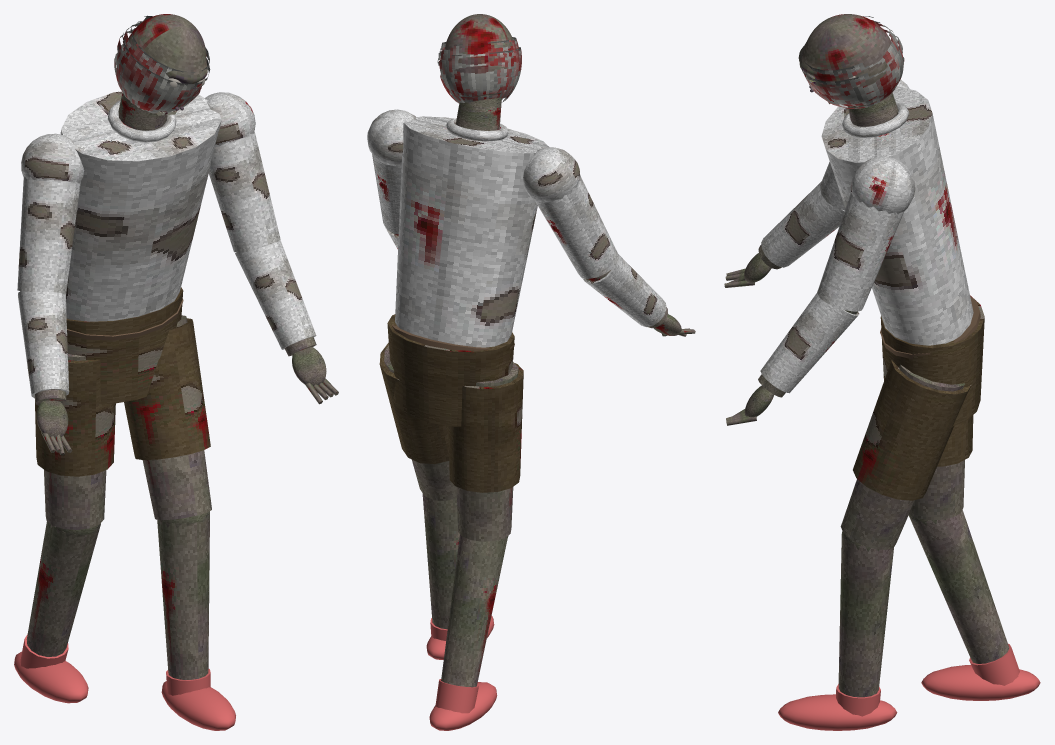
The model's file is Zombie_117.glb.
The picture shows the model from 3 angles, left to right: view 1: azimuth 30°, elevation 25°; view 2: azimuth 150°, elevation 25°; view 3: azimuth 270°, elevation 25°; orthographic projection. The views are drawn at different scales.
Visible parts, largest first — view 1: Zombie_117, object 12, object 4, object 18, object 44, object 43, object 13, object 5; view 2: Zombie_117, object 4, object 18, object 44, object 43; view 3: Zombie_117, object 18, object 12, object 4, object 44, object 43, object 13.
Part boxes in pixels (<box>): Zombie_117: <box>14,91,280,730</box>; object 12: <box>235,240,316,349</box>; object 4: <box>18,291,69,398</box>; object 18: <box>123,14,207,107</box>; object 44: <box>114,21,210,113</box>; object 43: <box>116,15,209,97</box>; object 13: <box>292,347,326,385</box>; object 5: <box>36,400,68,438</box>; Zombie_117: <box>367,95,618,730</box>; object 4: <box>582,254,666,326</box>; object 18: <box>444,14,512,96</box>; object 44: <box>437,47,521,103</box>; object 43: <box>439,37,518,100</box>; Zombie_117: <box>778,79,1040,730</box>; object 18: <box>798,14,891,102</box>; object 12: <box>760,293,859,393</box>; object 4: <box>761,181,844,267</box>; object 44: <box>802,21,904,108</box>; object 43: <box>802,16,899,106</box>; object 13: <box>744,385,773,417</box>.
Bounding box in the file's own units: 0.7278 × 1.71 × 0.694.
16 materials, 6 textured.
